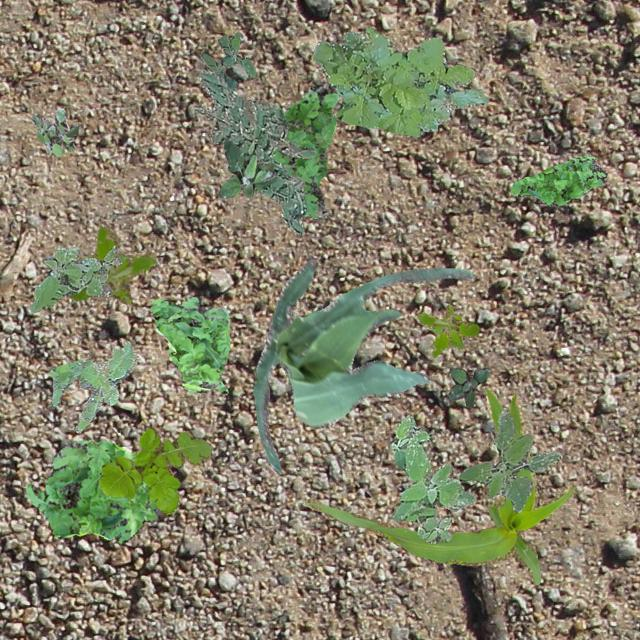crop: (304, 386, 574, 584), (252, 259, 472, 473)
weed: (194, 68, 314, 234), (312, 26, 486, 136), (23, 438, 158, 542), (390, 414, 474, 542), (458, 408, 560, 512), (98, 428, 210, 512), (270, 82, 338, 218), (49, 339, 138, 432), (148, 296, 228, 394), (70, 224, 156, 304), (29, 244, 120, 312), (509, 152, 606, 205), (218, 140, 278, 197), (416, 304, 478, 356), (200, 32, 254, 76), (31, 106, 78, 156), (448, 367, 488, 408)
